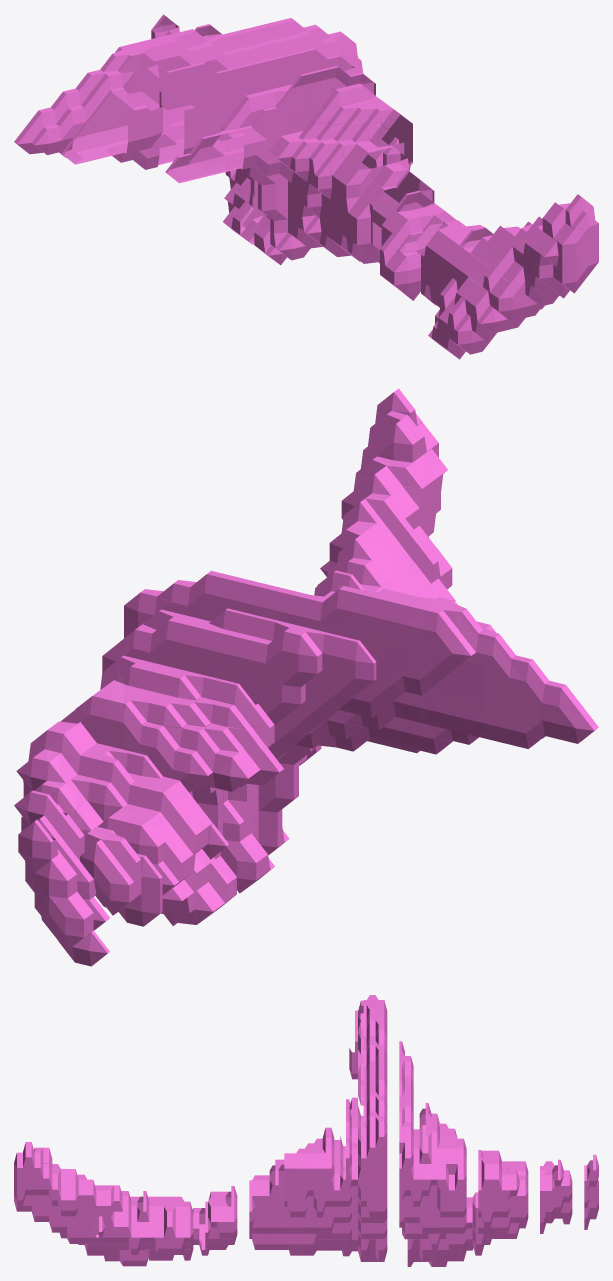
The model's file is SVV_BWM-DL04.gltf.
The picture shows the model from 3 angles, top to bottom: view 1: azimuth 30°, elevation 25°; view 2: azimuth 150°, elevation 25°; view 3: azimuth 270°, elevation 25°; orthographic projection. The views are drawn at different scales.
Parts seen in each view (by area): view 1: BWM-DL04; view 2: BWM-DL04; view 3: BWM-DL04.
Part boxes in pixels (x1,y1,x2,y2): BWM-DL04: [14, 14, 598, 359]; BWM-DL04: [14, 388, 598, 966]; BWM-DL04: [14, 995, 598, 1266].
Size of the model in its own units: 15363 by 9723 by 25485.
